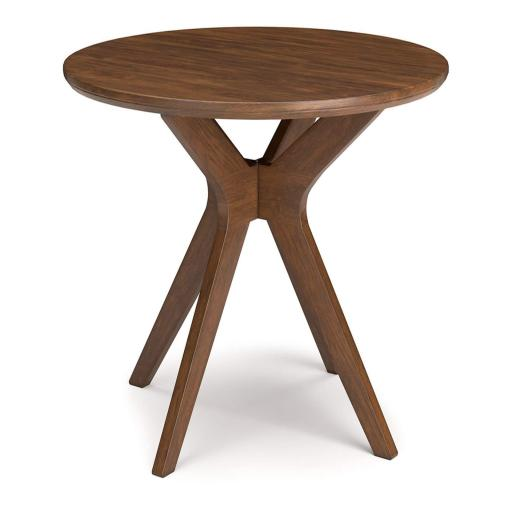table: (60, 23, 454, 475)
